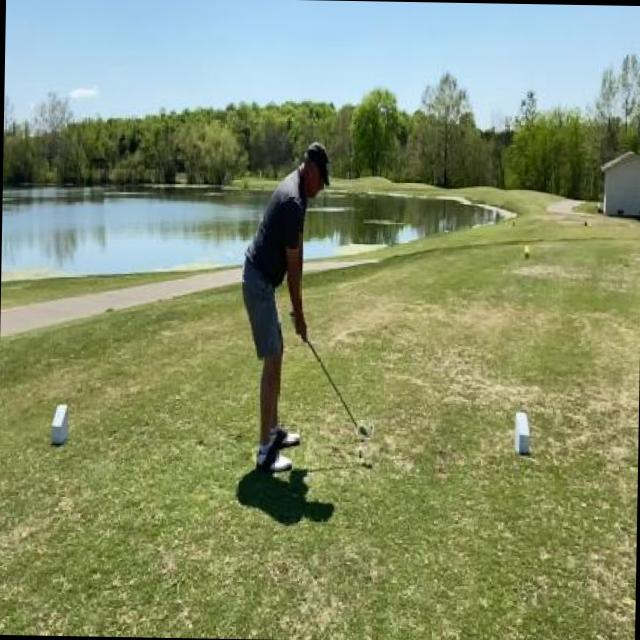club head: (357, 421, 373, 439)
